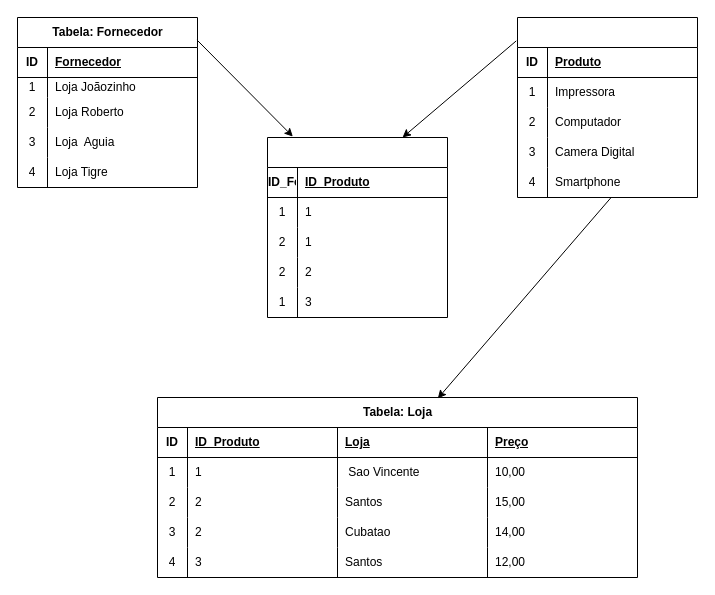
Image size: 715x595. Some labels were removed from this diagram. Here are the shapes that lost their labels. From the top down, the box of each, then its label:
(516, 16, 698, 198): Tabela: Produto
(266, 136, 448, 318): Tabela: For_Prod
